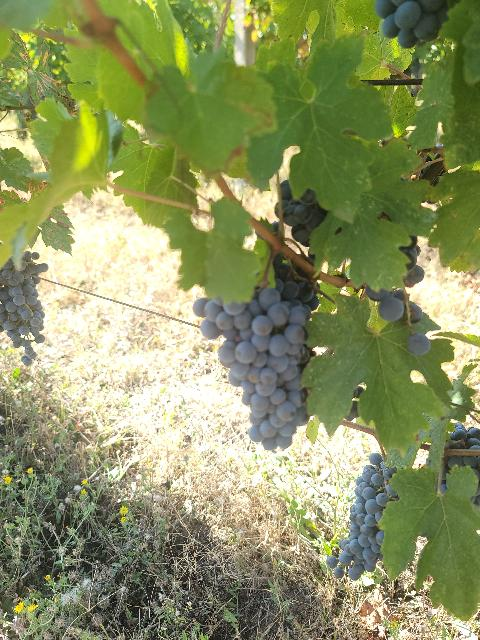grapes: (192, 279, 319, 450), (329, 452, 396, 580), (0, 251, 49, 365)
